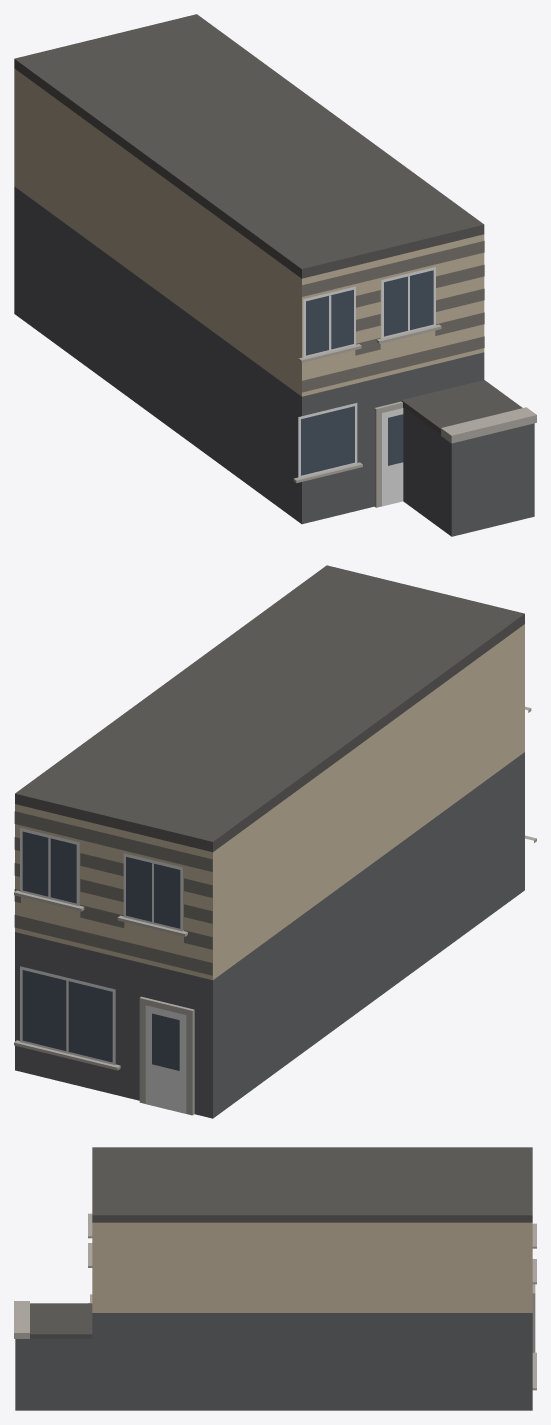
The model's file is nd-tw-flat__striped-box__2__flat__long__solid__mirror.glb.
The picture shows the model from 3 angles, top to bottom: view 1: azimuth 30°, elevation 25°; view 2: azimuth 150°, elevation 25°; view 3: azimuth 270°, elevation 25°; orthographic projection. The views are drawn at different scales.
Visible parts, largest first — view 1: nd-tw-flat__striped-box__2__flat__long__solid__mirror; view 2: nd-tw-flat__striped-box__2__flat__long__solid__mirror; view 3: nd-tw-flat__striped-box__2__flat__long__solid__mirror.
Part boxes in pixels (x1,y1,x2,y2): nd-tw-flat__striped-box__2__flat__long__solid__mirror: (14, 14, 536, 536); nd-tw-flat__striped-box__2__flat__long__solid__mirror: (14, 565, 536, 1118); nd-tw-flat__striped-box__2__flat__long__solid__mirror: (14, 1147, 536, 1410).
Size of the model in its own units: 4.63 by 5.87 by 14.26.
